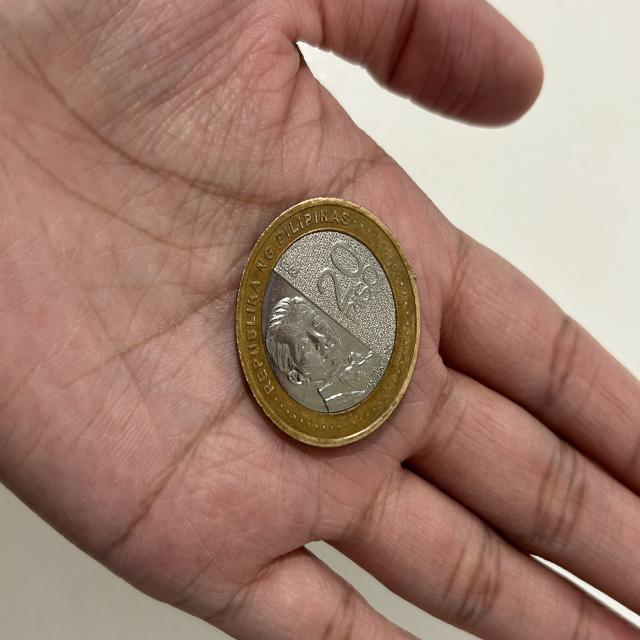20_New_Front: (314, 230, 385, 332)
